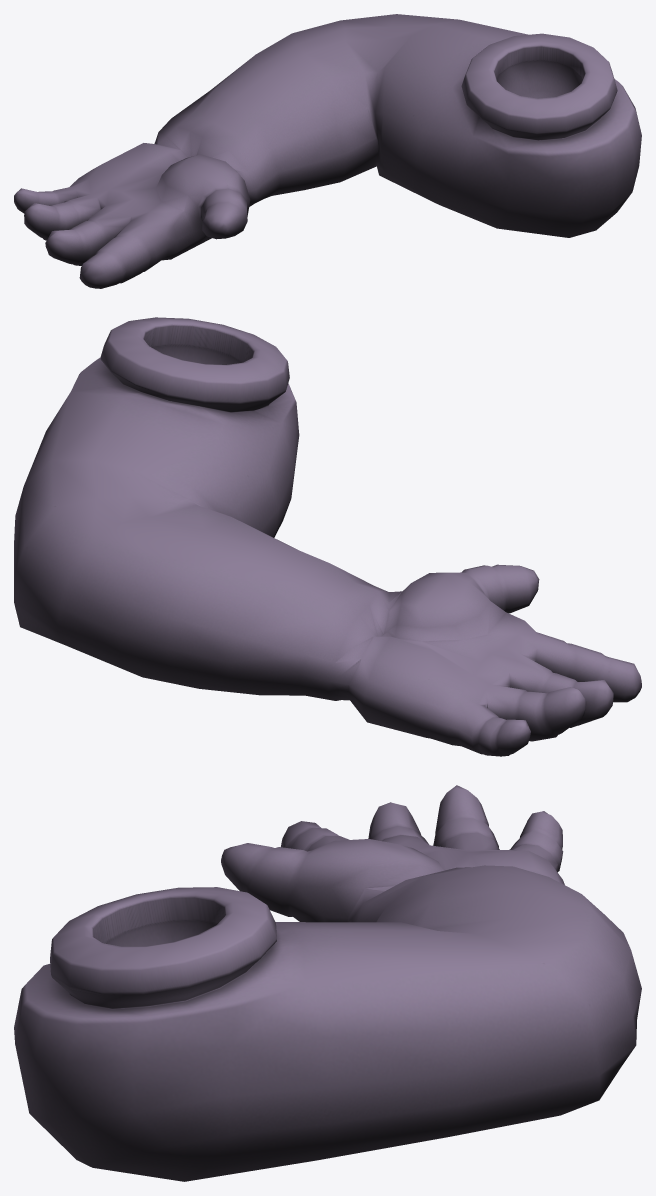
Rendered from DollArm.glb.
3 renders of one model, top to bottom at view 1: azimuth 30°, elevation 25°; view 2: azimuth 150°, elevation 25°; view 3: azimuth 270°, elevation 25°, orthographic. The views are drawn at different scales.
Parts seen in each view (by area): view 1: DollArm.001; view 2: DollArm.001; view 3: DollArm.001.
Part boxes in pixels (<box>): DollArm.001: <box>14,14,641,288</box>; DollArm.001: <box>14,317,641,756</box>; DollArm.001: <box>14,785,641,1181</box>.
Size of the model in its own units: 5.24 by 1.68 by 3.76.
Materials: 1 (1 with a texture image).
